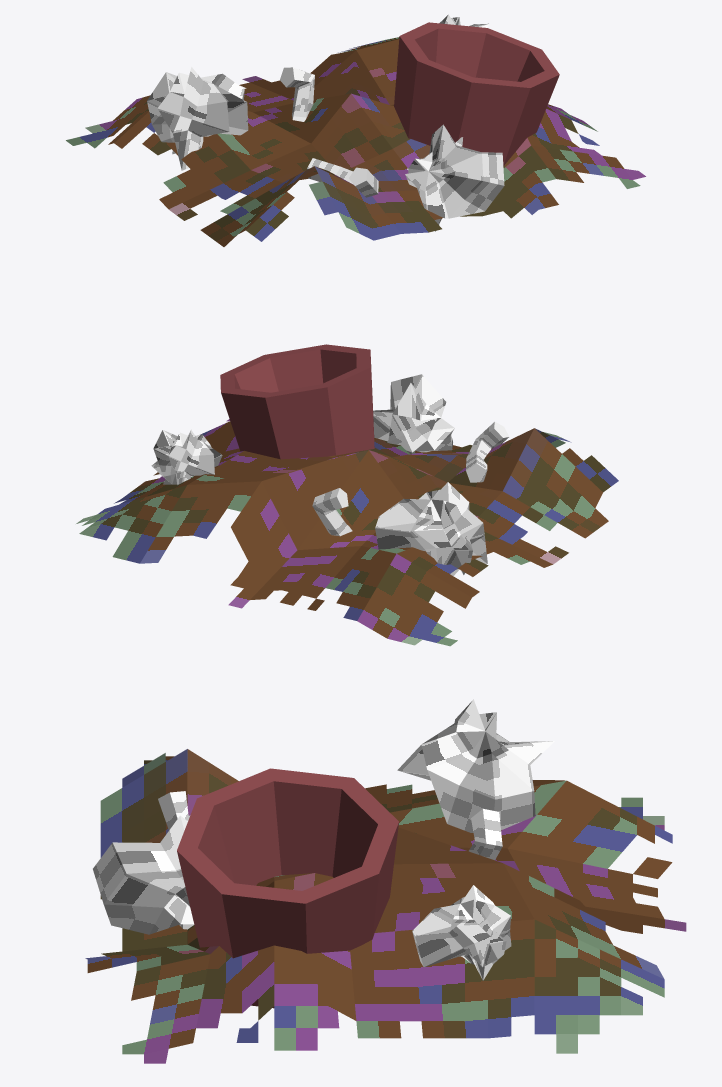
The model's file is Trash.fbx.
3 renders of one model, top to bottom at view 1: azimuth 30°, elevation 25°; view 2: azimuth 150°, elevation 25°; view 3: azimuth 270°, elevation 25°, orthographic. The views are drawn at different scales.
Visible parts, largest first — view 1: TrashPile; view 2: TrashPile; view 3: TrashPile.
Boxes of the visible parts, x1,y1,x2,y2 form: TrashPile: (66, 14, 645, 246); TrashPile: (76, 344, 618, 646); TrashPile: (85, 699, 686, 1063).
Size of the model in its own units: 2 by 0.5876 by 2.
